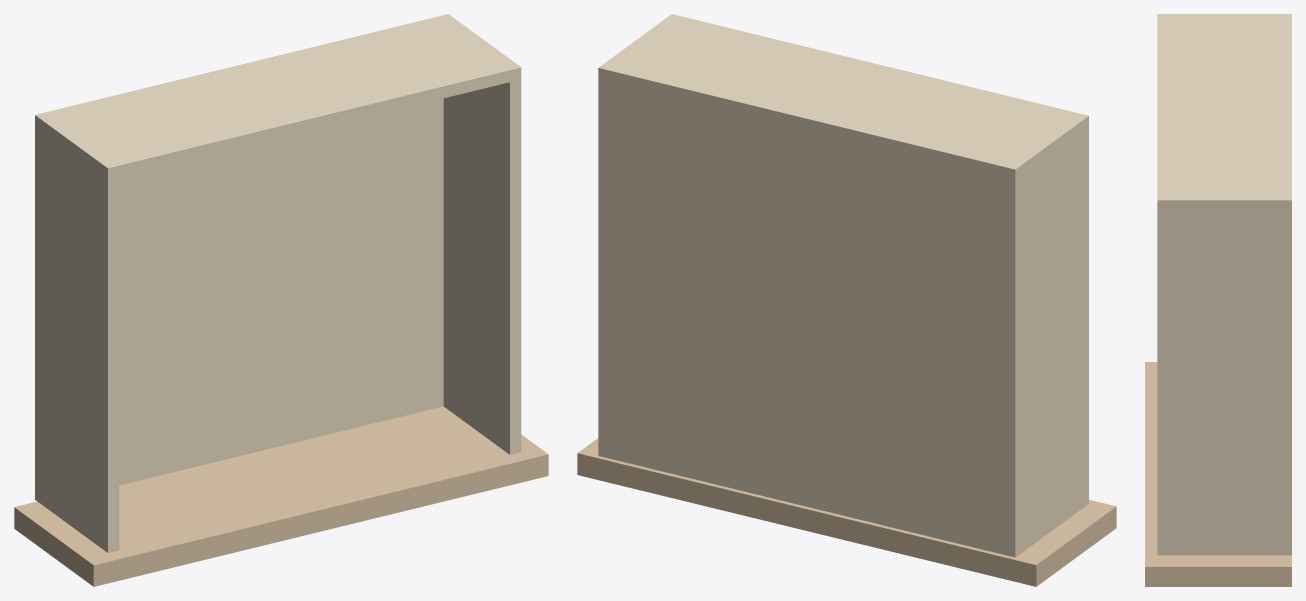
The model's file is Drawer.glb.
The picture shows the model from 3 angles, left to right: view 1: azimuth 30°, elevation 25°; view 2: azimuth 150°, elevation 25°; view 3: azimuth 270°, elevation 25°; orthographic projection. The views are drawn at different scales.
Parts seen in each view (by area): view 1: Drawer.001; view 2: Drawer.001; view 3: Drawer.001.
Boxes of the visible parts, x1,y1,x2,y2 form: Drawer.001: (14, 14, 548, 586); Drawer.001: (577, 14, 1116, 586); Drawer.001: (1145, 14, 1291, 586).
Size of the model in its own units: 0.396 by 0.34 by 0.12.
